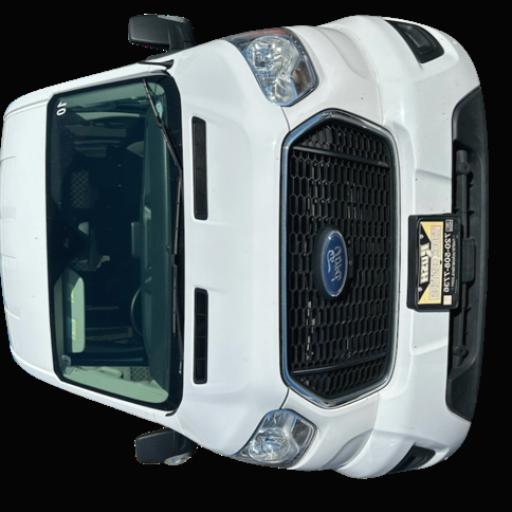van: (0, 13, 486, 475)
